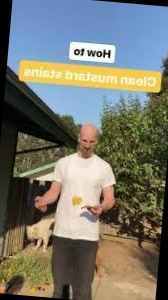mustard: (70, 194, 84, 206)
